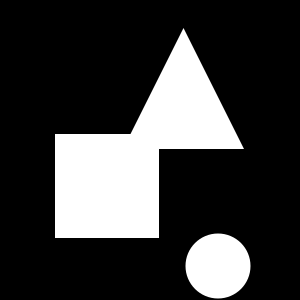circle: (55, 134, 159, 238)
rectangle: (186, 234, 250, 299)
triangle: (123, 28, 244, 149)
